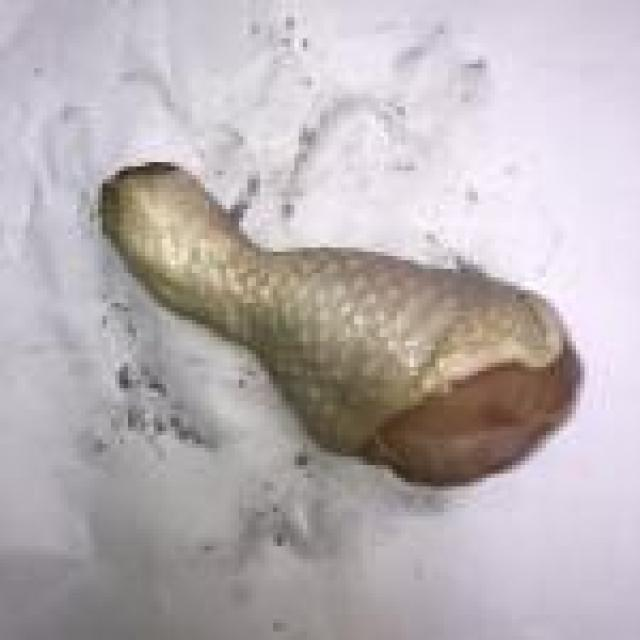leg: (89, 159, 586, 492)
